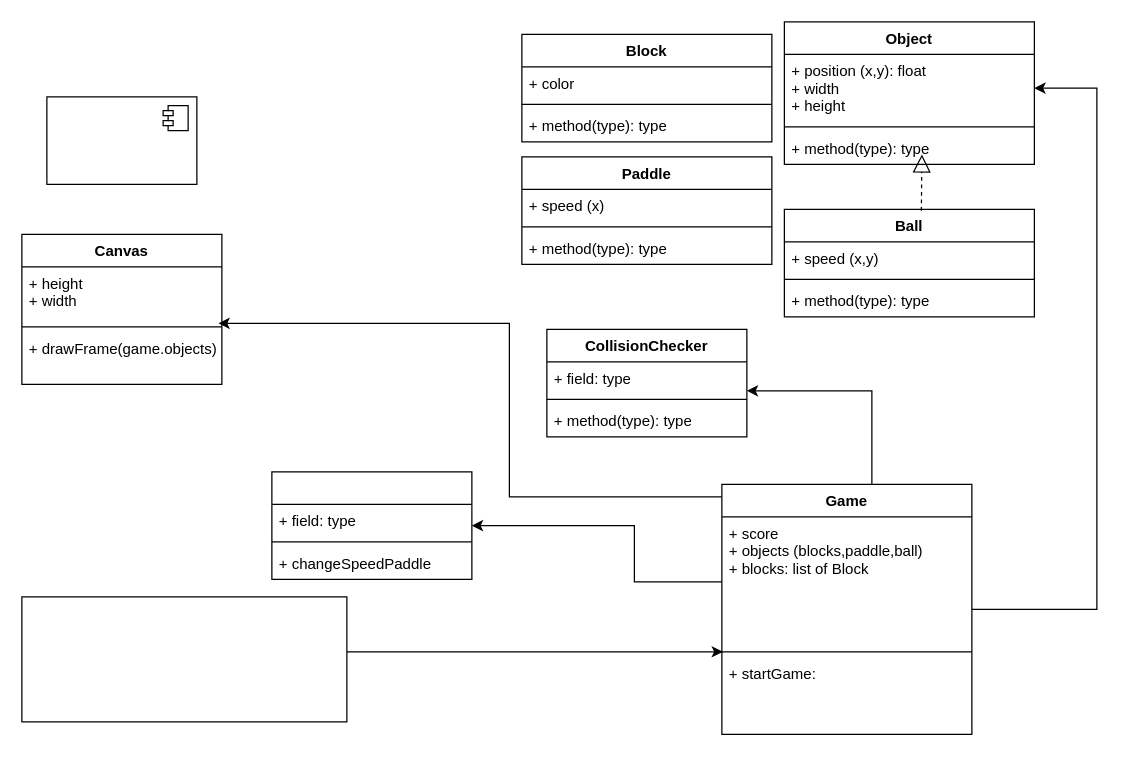
The diagram is 1129 pixels wide and 760 high, and some of its shapes have lost their labels. Each missing label, with the box of its shape:
InputController: (271, 471, 472, 579)
Main.cpp Game = new Game(); game.startGame();: (21, 596, 347, 722)
settings.h: (46, 96, 197, 184)
